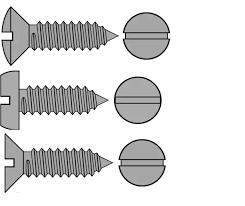slotted: (113, 75, 161, 126), (119, 137, 165, 188), (123, 12, 171, 59)
